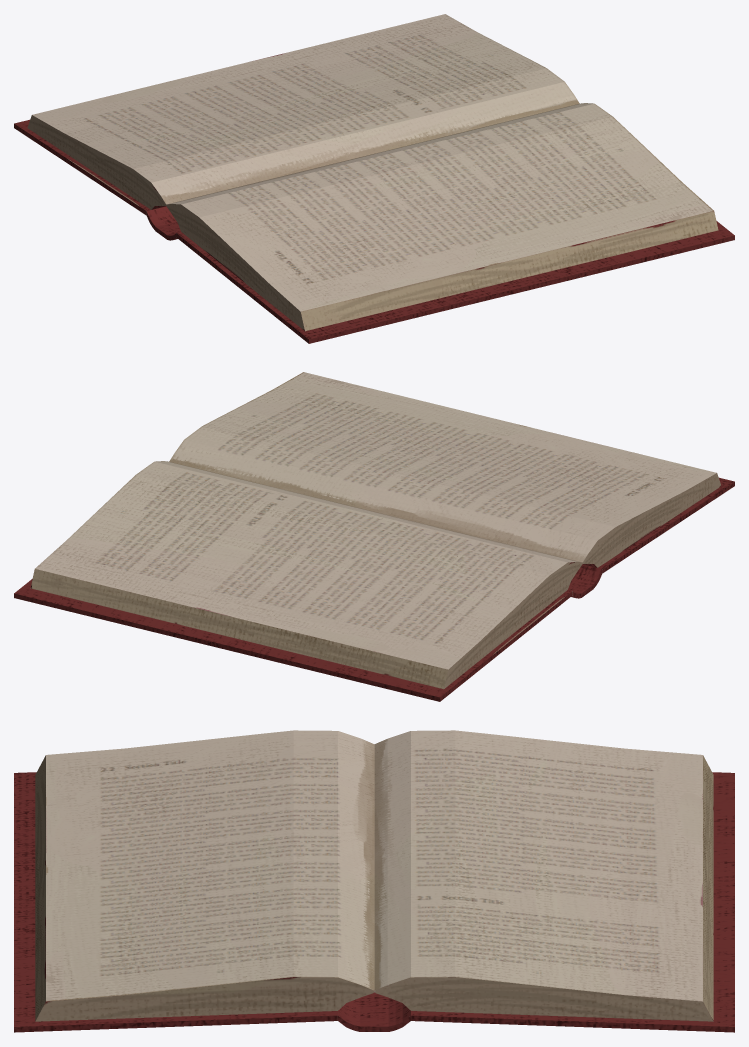
The model's file is Openbooktrain.fbx.
3 renders of one model, top to bottom at view 1: azimuth 30°, elevation 25°; view 2: azimuth 150°, elevation 25°; view 3: azimuth 270°, elevation 25°, orthographic. The views are drawn at different scales.
Parts seen in each view (by area): view 1: Plane; view 2: Plane; view 3: Plane.
Boxes of the visible parts, <box> form: Plane: <box>14,14,734,343</box>; Plane: <box>14,372,734,701</box>; Plane: <box>14,730,734,1032</box>.
Bounding box in the file's own units: 42.91 × 4.01 × 51.47.
1 material, 1 textured.
